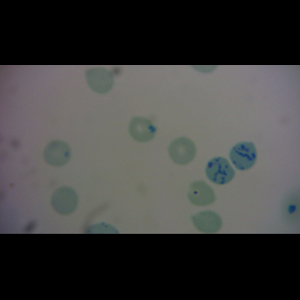aggregate reticulocyte: (205, 156, 237, 186), (229, 140, 259, 171)
erythrocyte: (167, 136, 198, 166), (189, 209, 224, 234), (128, 115, 158, 144), (84, 67, 116, 94), (50, 186, 78, 216), (43, 140, 72, 168), (186, 181, 218, 206)
